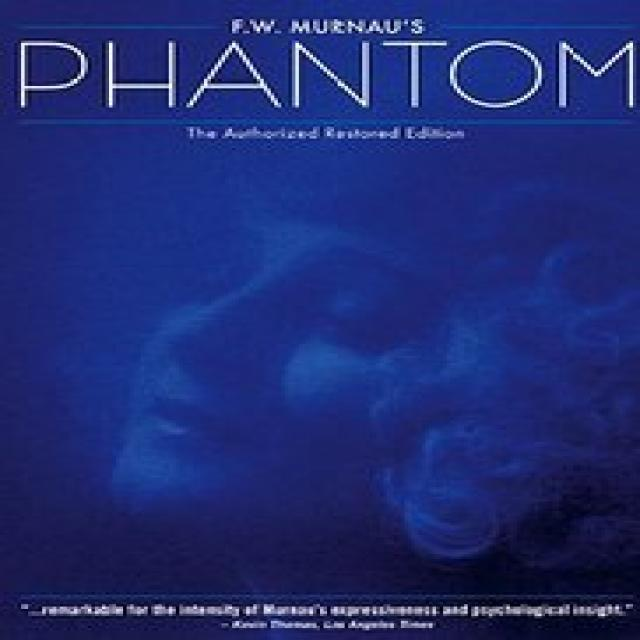movie-judul: (16, 8, 640, 138)
picture: (102, 188, 640, 536)
